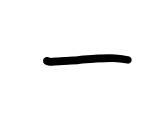minus: (42, 55, 132, 66)
